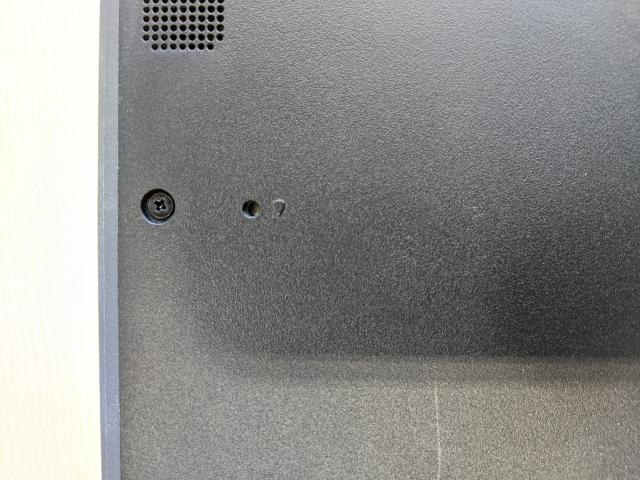CRS: (148, 190, 175, 220)
